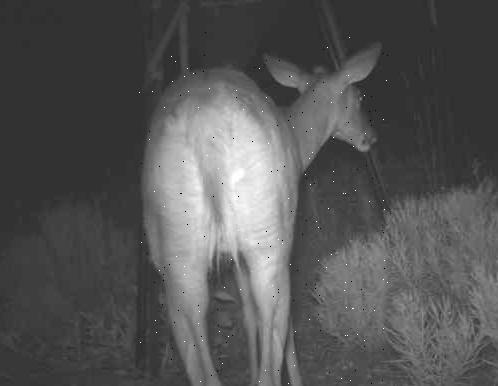Deer: (138, 32, 388, 386)
